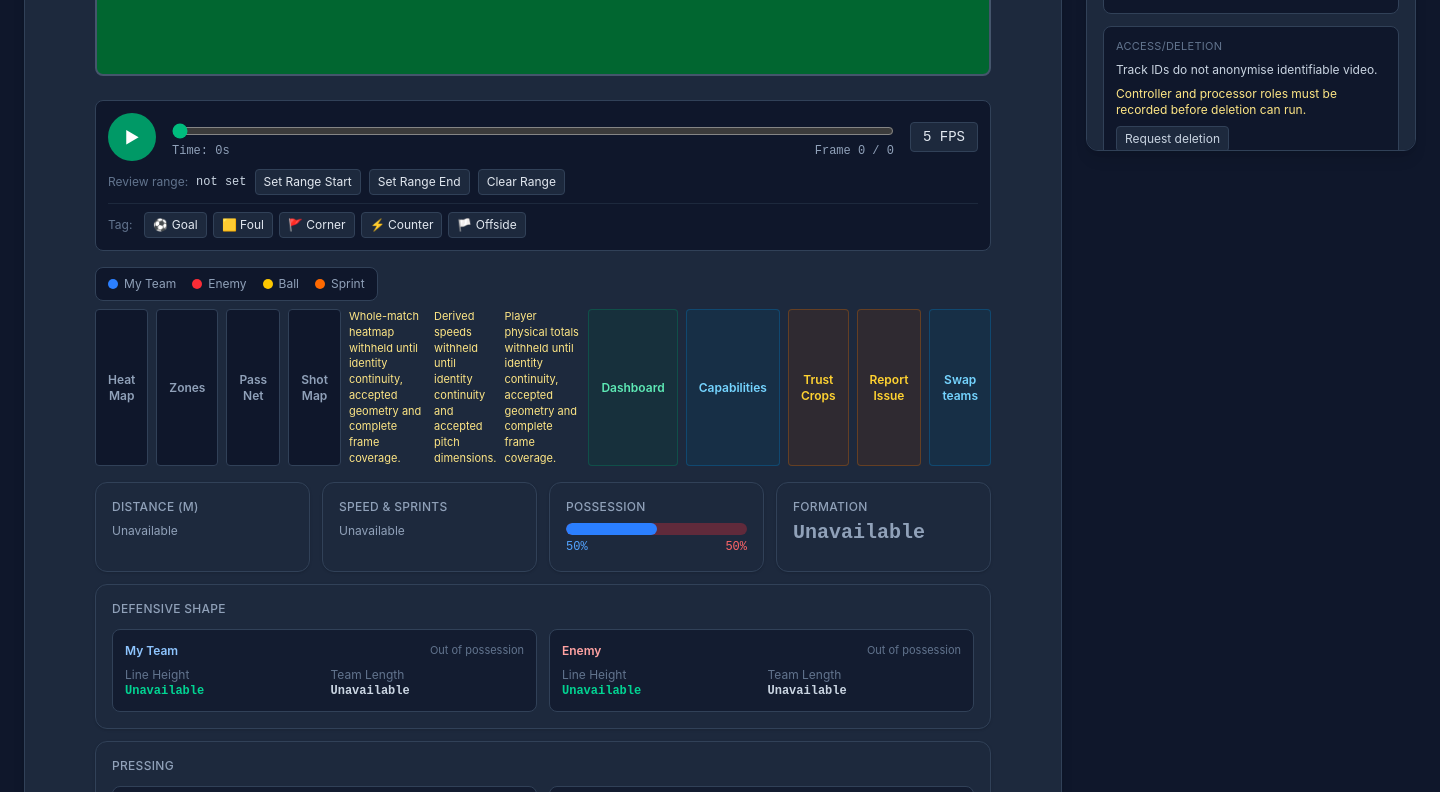
it: App leftover contract workbench › exposes overlay controls as pressed toggles
(page scrolled)
Click the button "Zones".
click(187, 388)  # box [156,309,218,466]
(page scrolled)
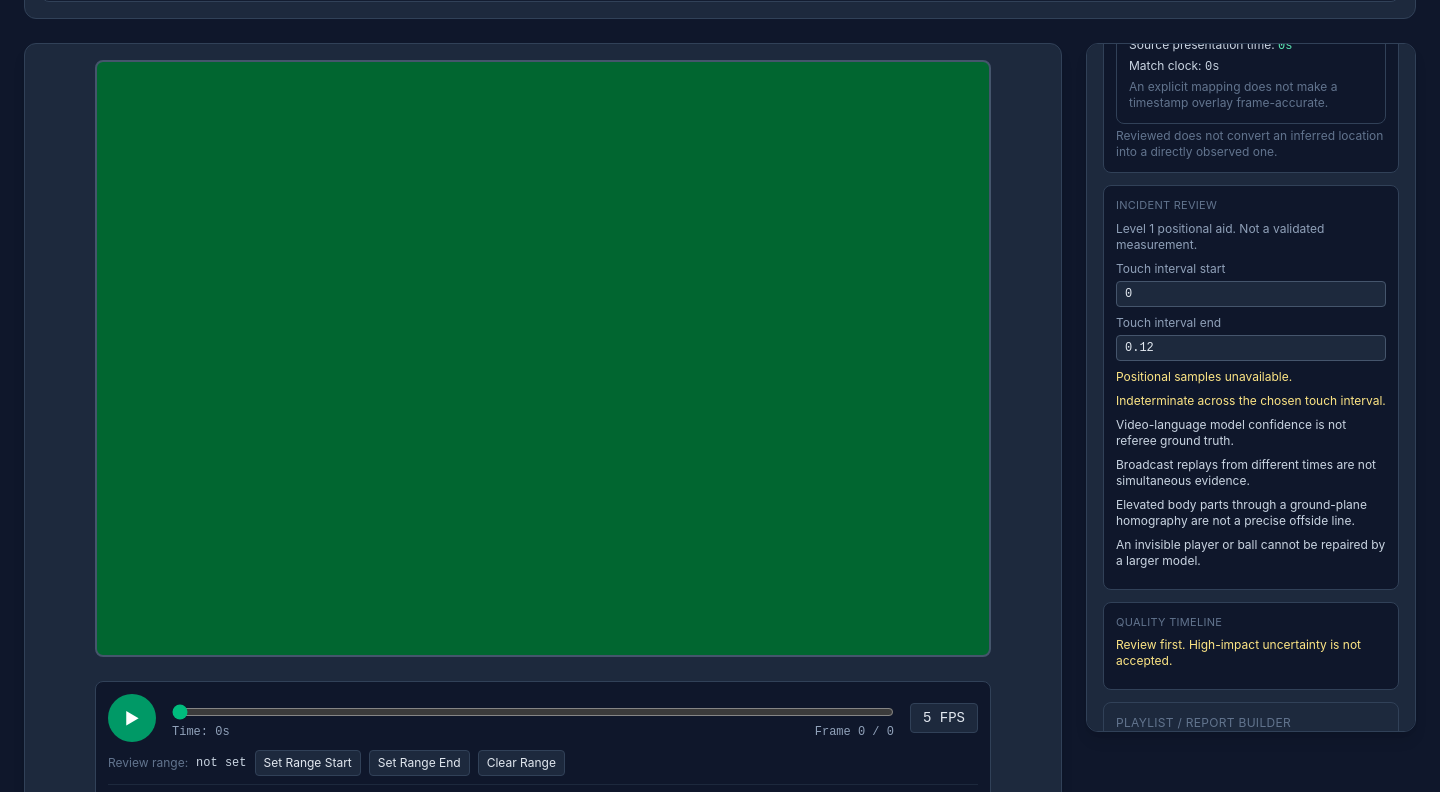
Now the element "Incident review" is shown, box [1103,185,1399,590]
